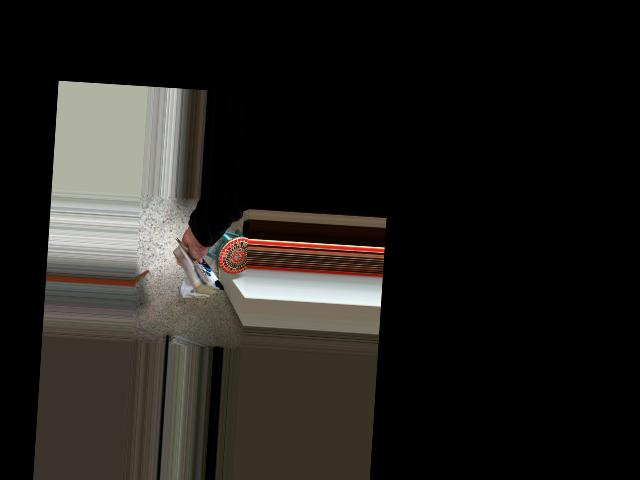cheese: (163, 227, 236, 305)
